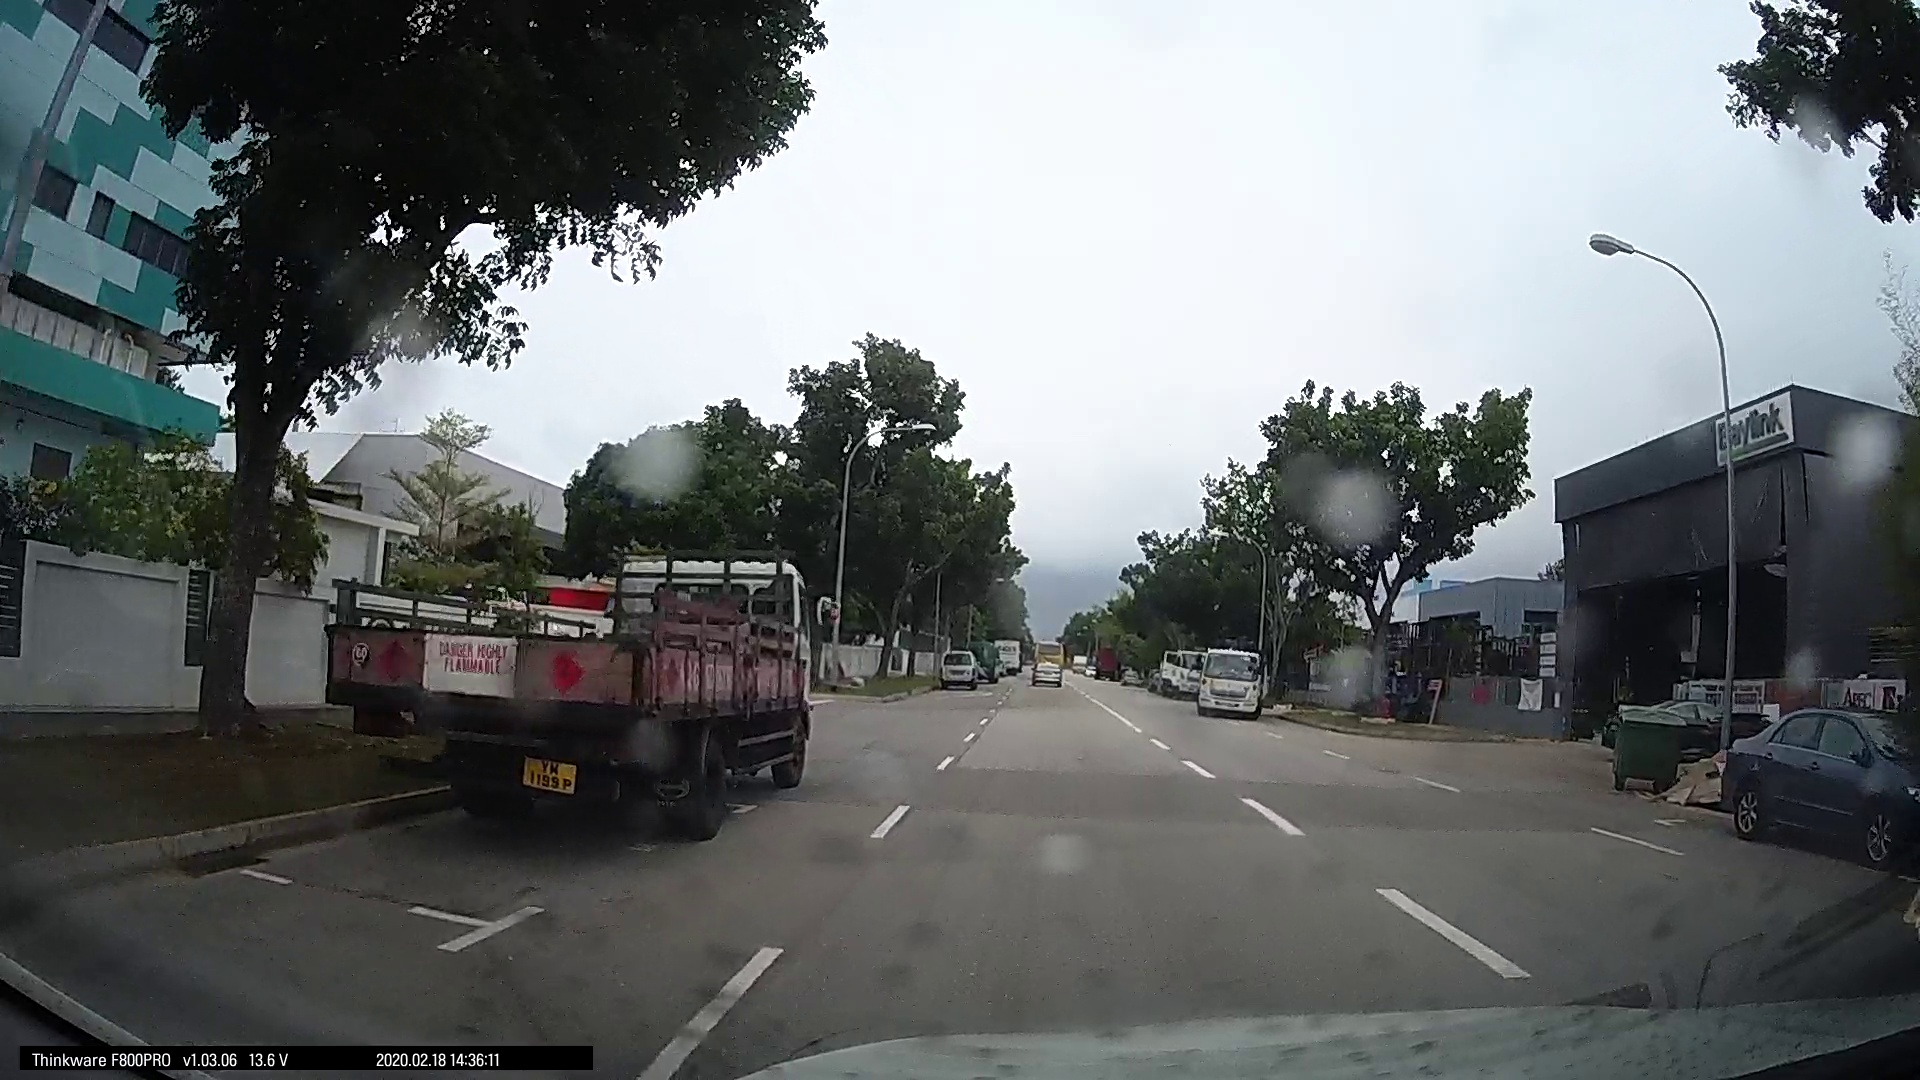Heavy Vehicle: (360, 531, 824, 827)
Light Vehicle: (1717, 702, 1911, 862), (1188, 644, 1265, 717), (934, 644, 984, 690), (1153, 650, 1197, 698), (1025, 645, 1062, 683)
